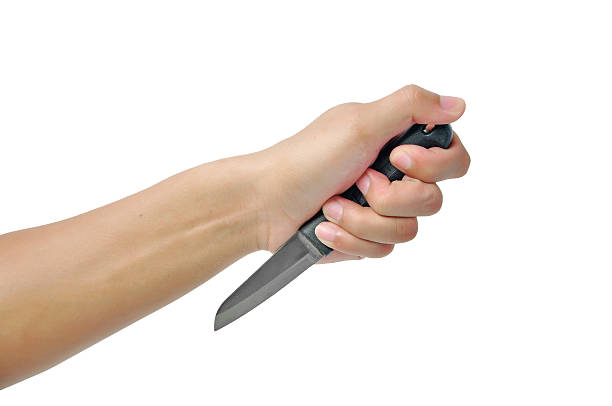knife: (213, 119, 454, 333)
